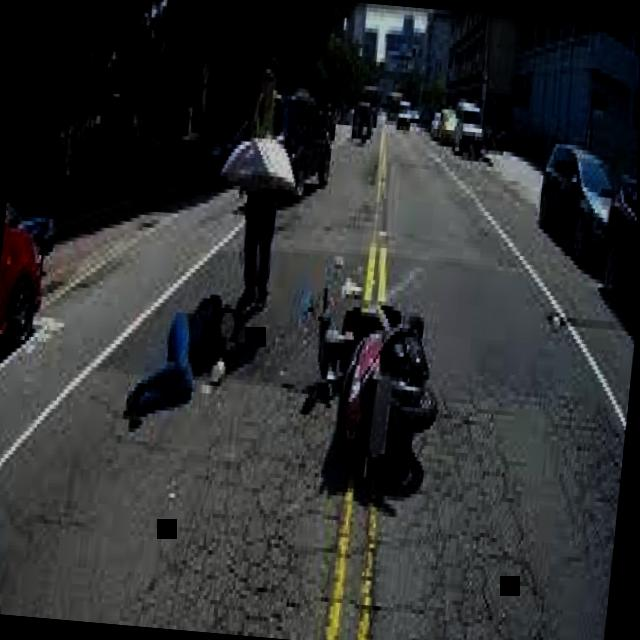Fall-Detected: (120, 259, 264, 442)
